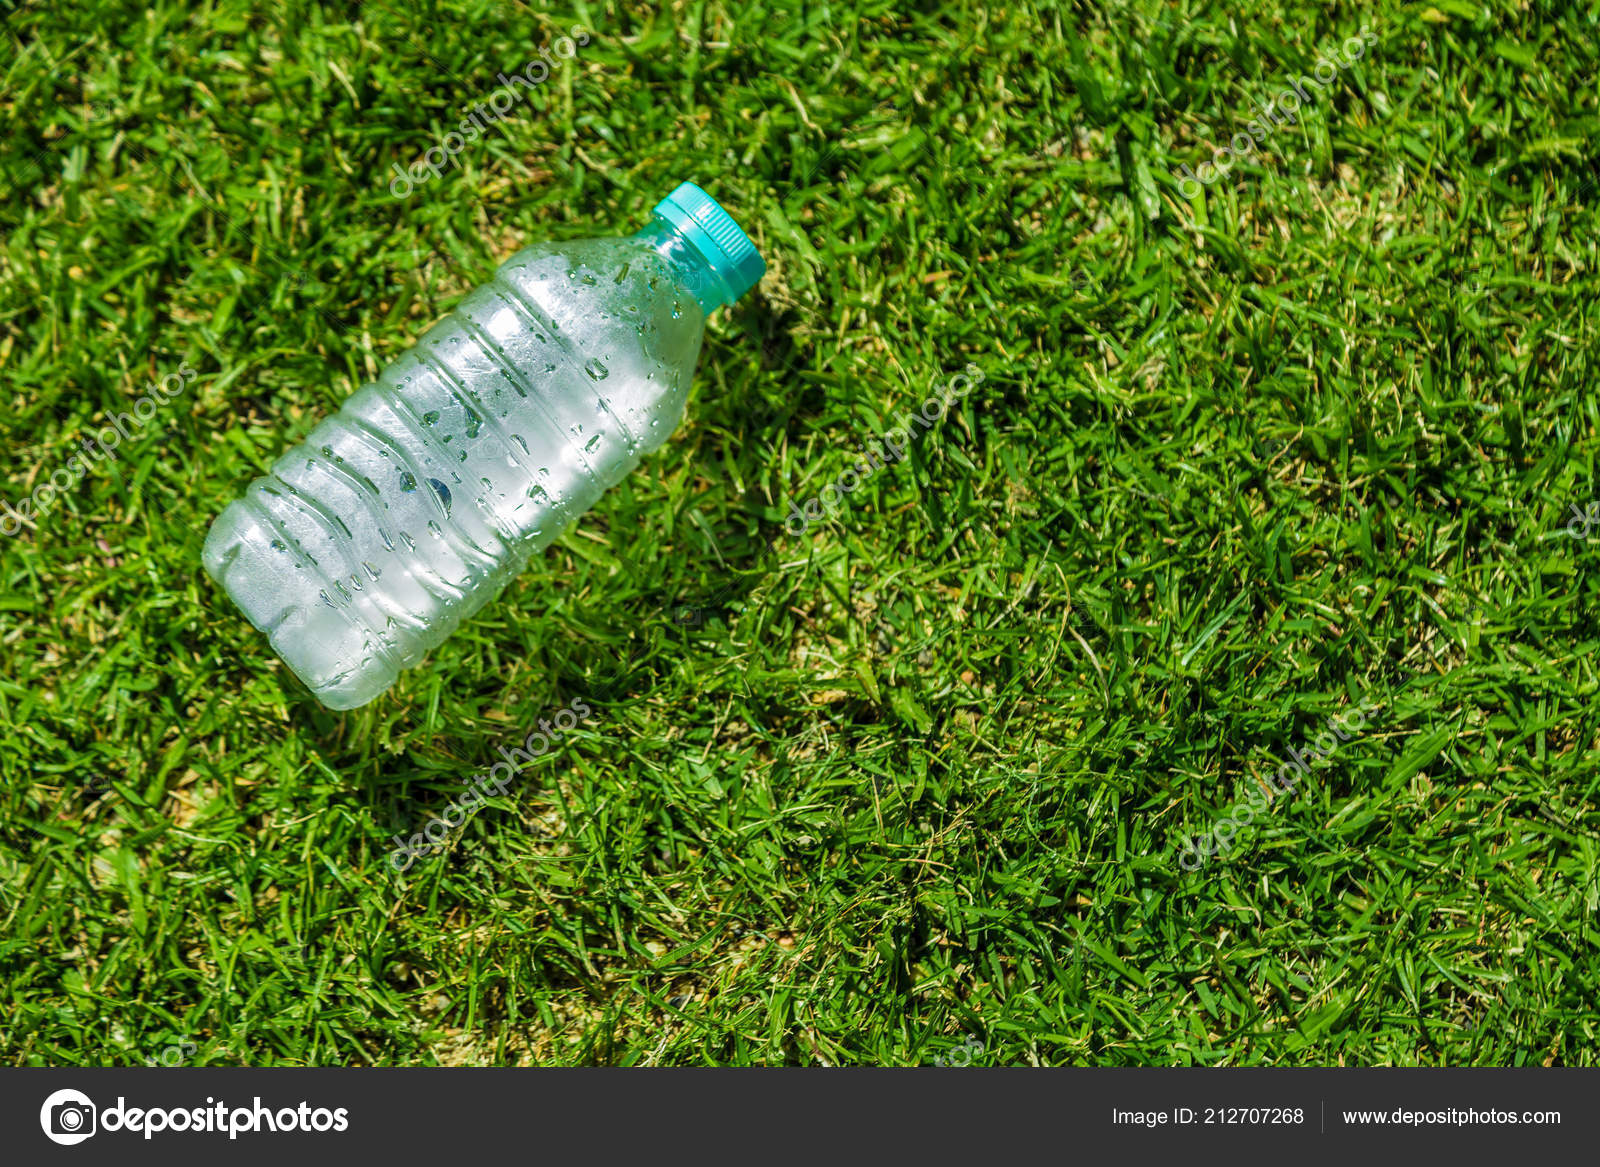plastic_bottle: (190, 176, 774, 725)
